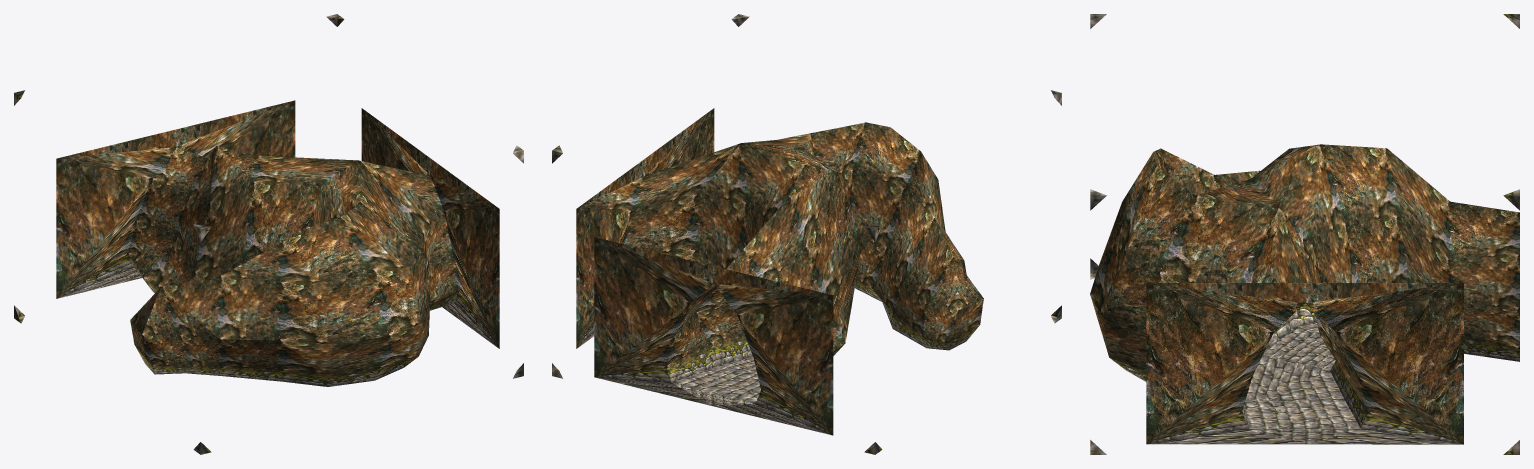
File: lbc_2i.glb
3 views of the same model, side by side, from view 1: azimuth 30°, elevation 25°; view 2: azimuth 150°, elevation 25°; view 3: azimuth 270°, elevation 25° (orthographic). The views are drawn at different scales.
Parts seen in each view (by area): view 1: lbc_2i; view 2: lbc_2i; view 3: lbc_2i.
Part boxes in pixels (x1,y1,x2,y2): lbc_2i: (14,14,523,454); lbc_2i: (552,14,1061,454); lbc_2i: (1090,14,1519,454).
Bounding box in the file's own units: 15 × 10 × 15.01.
Materials: 3 (3 with a texture image).
